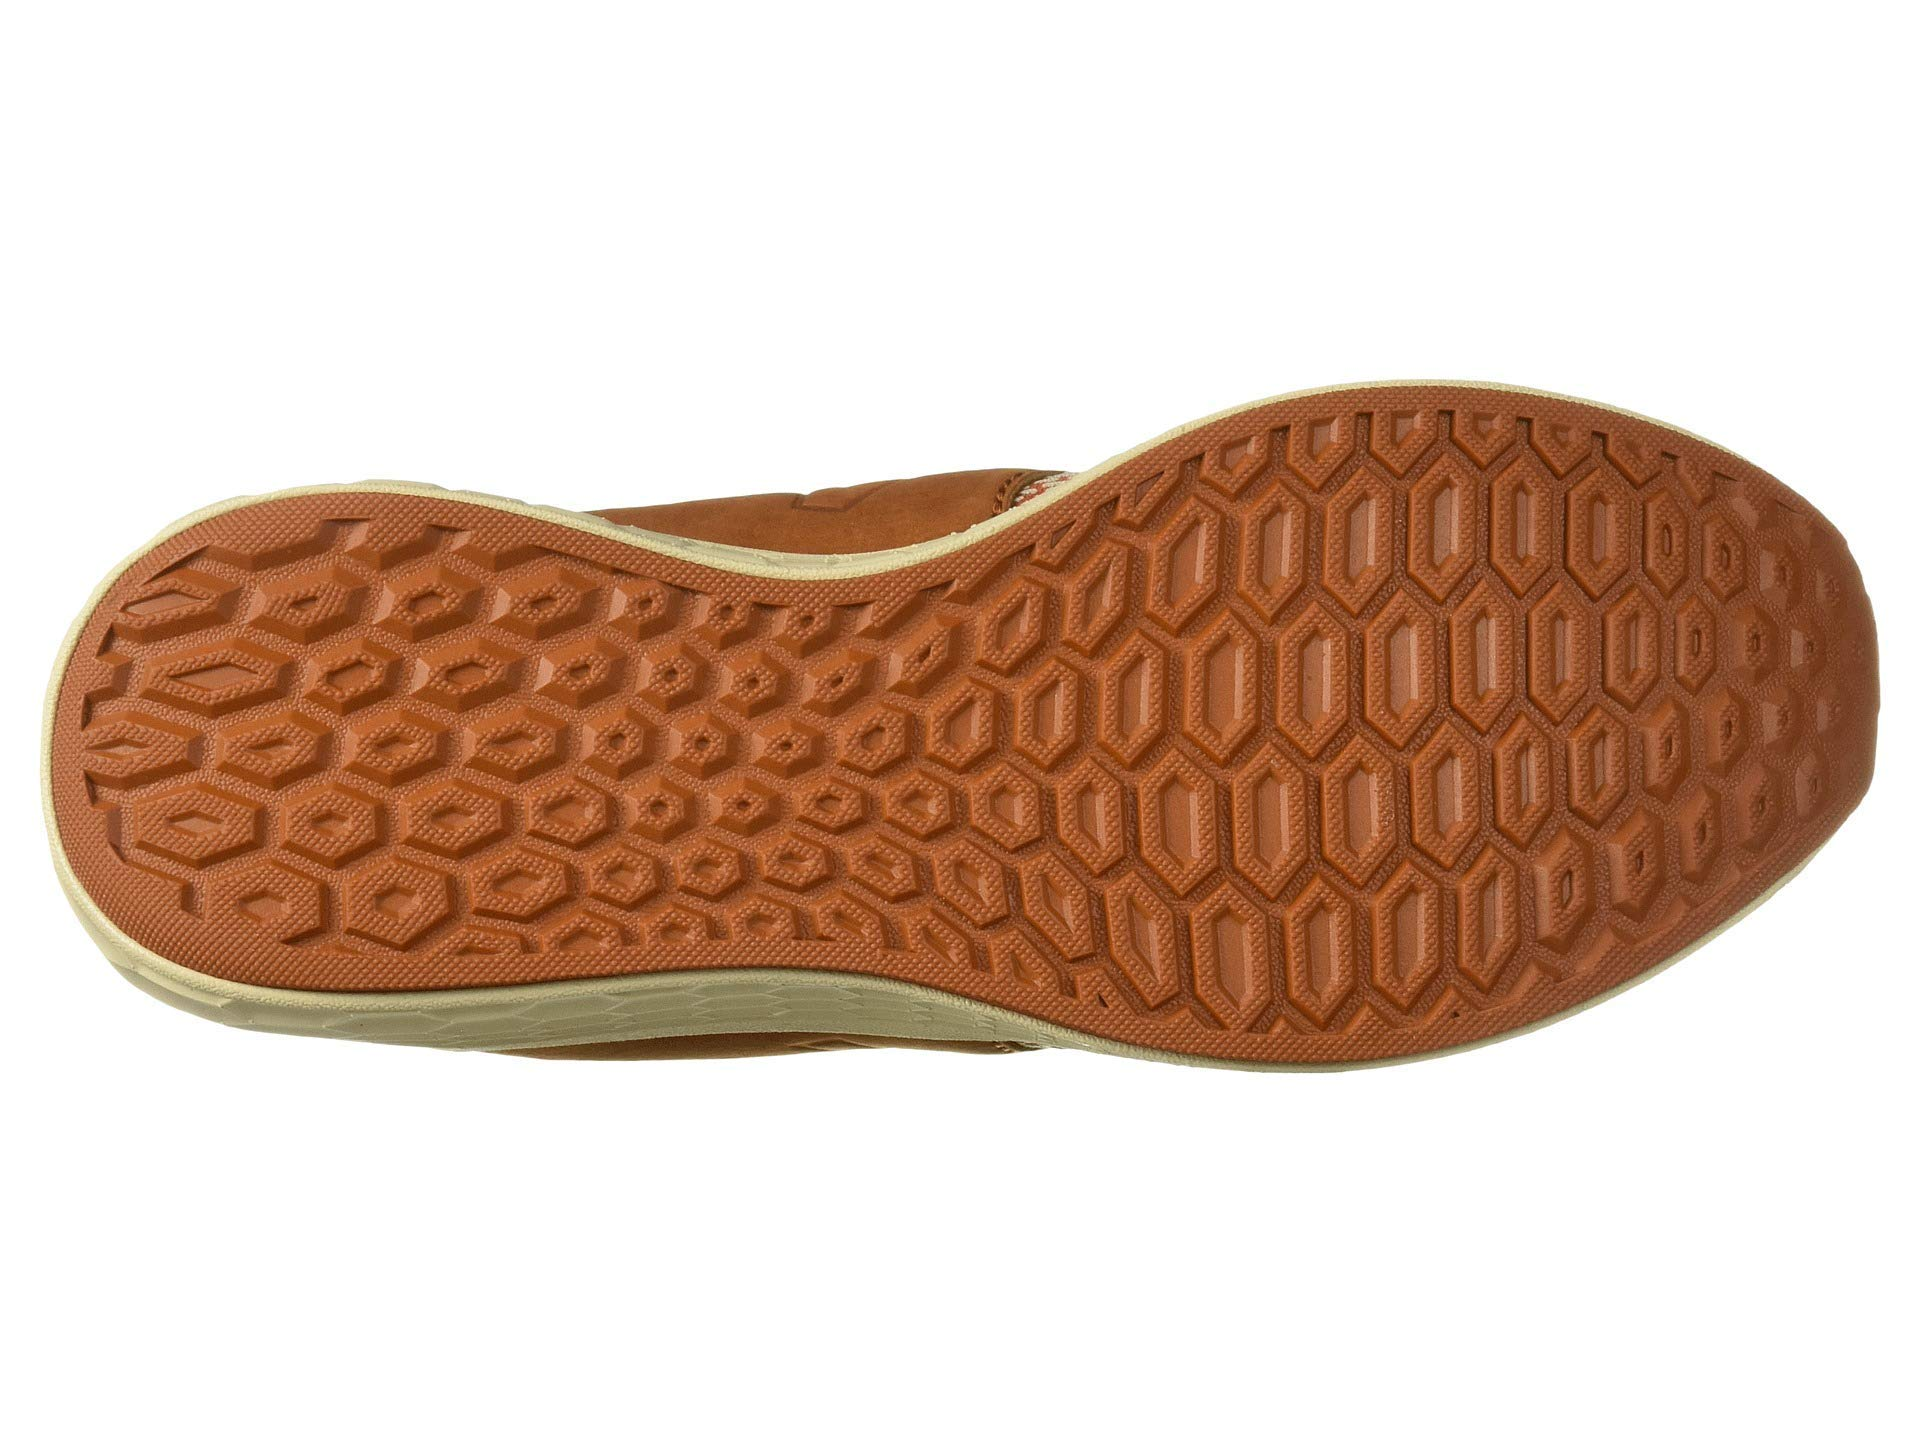polygon: (1110, 510, 1646, 945), (190, 588, 638, 971), (697, 635, 983, 945)
